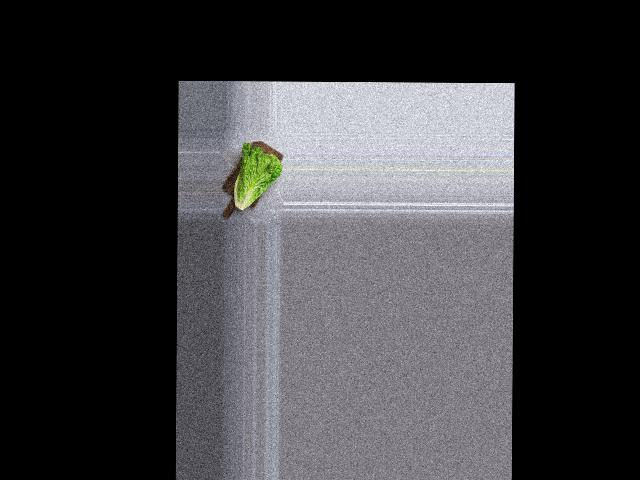lettuce: (226, 142, 281, 213)
